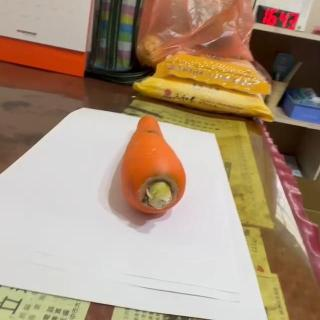carrot: (118, 114, 188, 216)
